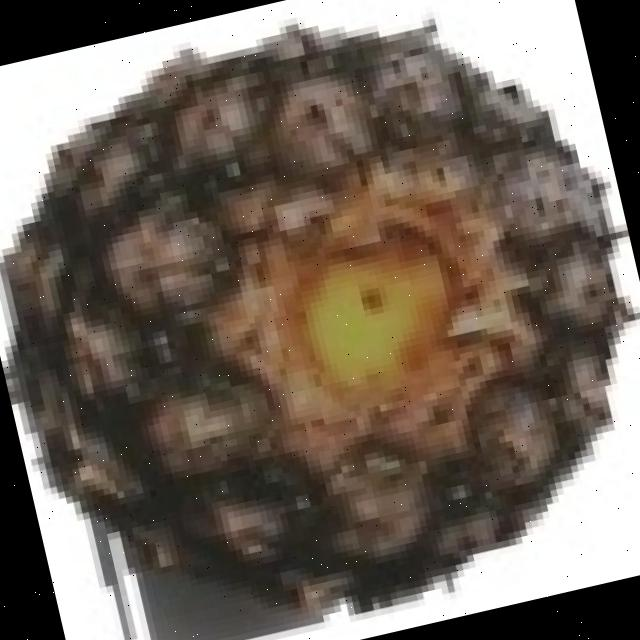pineapple: (9, 15, 631, 640)
